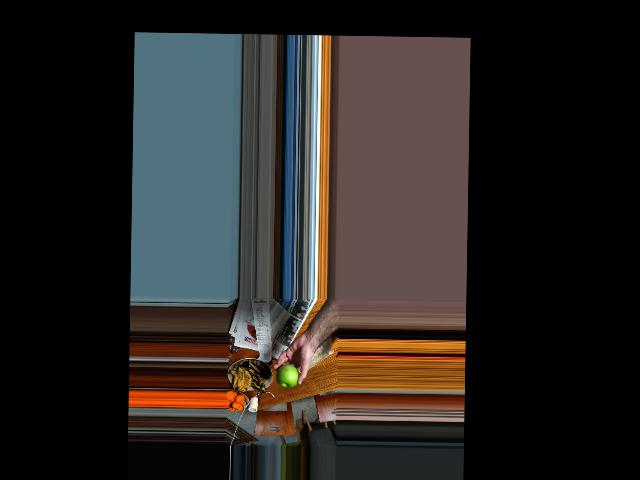apple: (278, 365, 300, 387)
